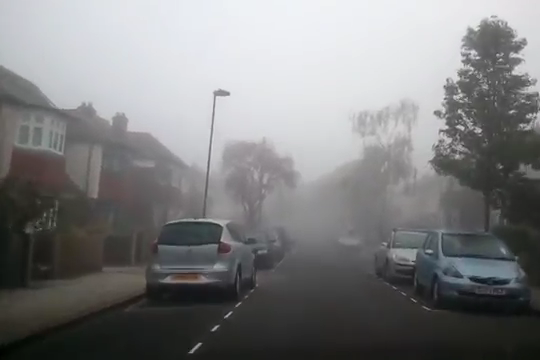car: (409, 226, 532, 315), (145, 216, 256, 302), (371, 224, 457, 284), (225, 228, 277, 271)
